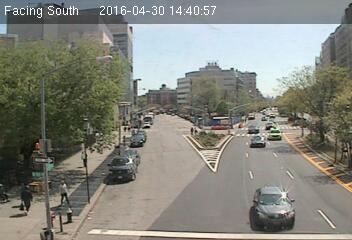neg: (317, 128, 328, 144), (115, 129, 125, 144), (239, 113, 248, 125), (104, 137, 112, 149)
pos: (15, 183, 39, 216), (52, 178, 73, 207), (337, 142, 351, 162), (77, 149, 91, 168), (189, 127, 195, 135), (193, 127, 199, 135)
